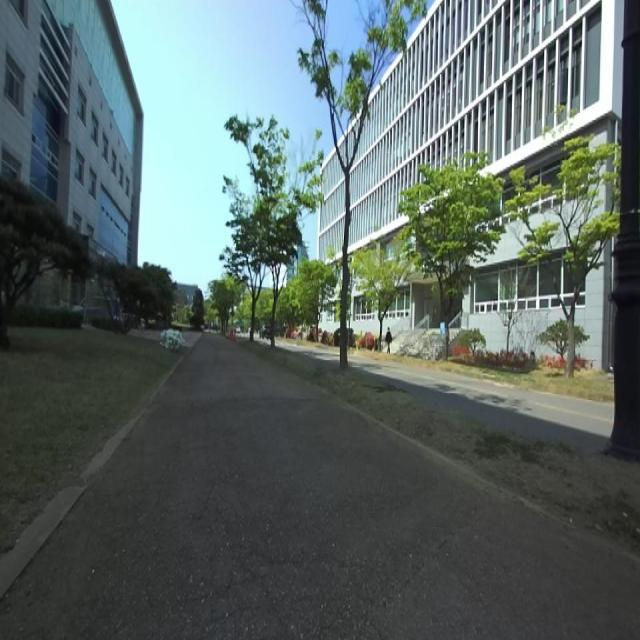sidewalk: (0, 336, 640, 639)
